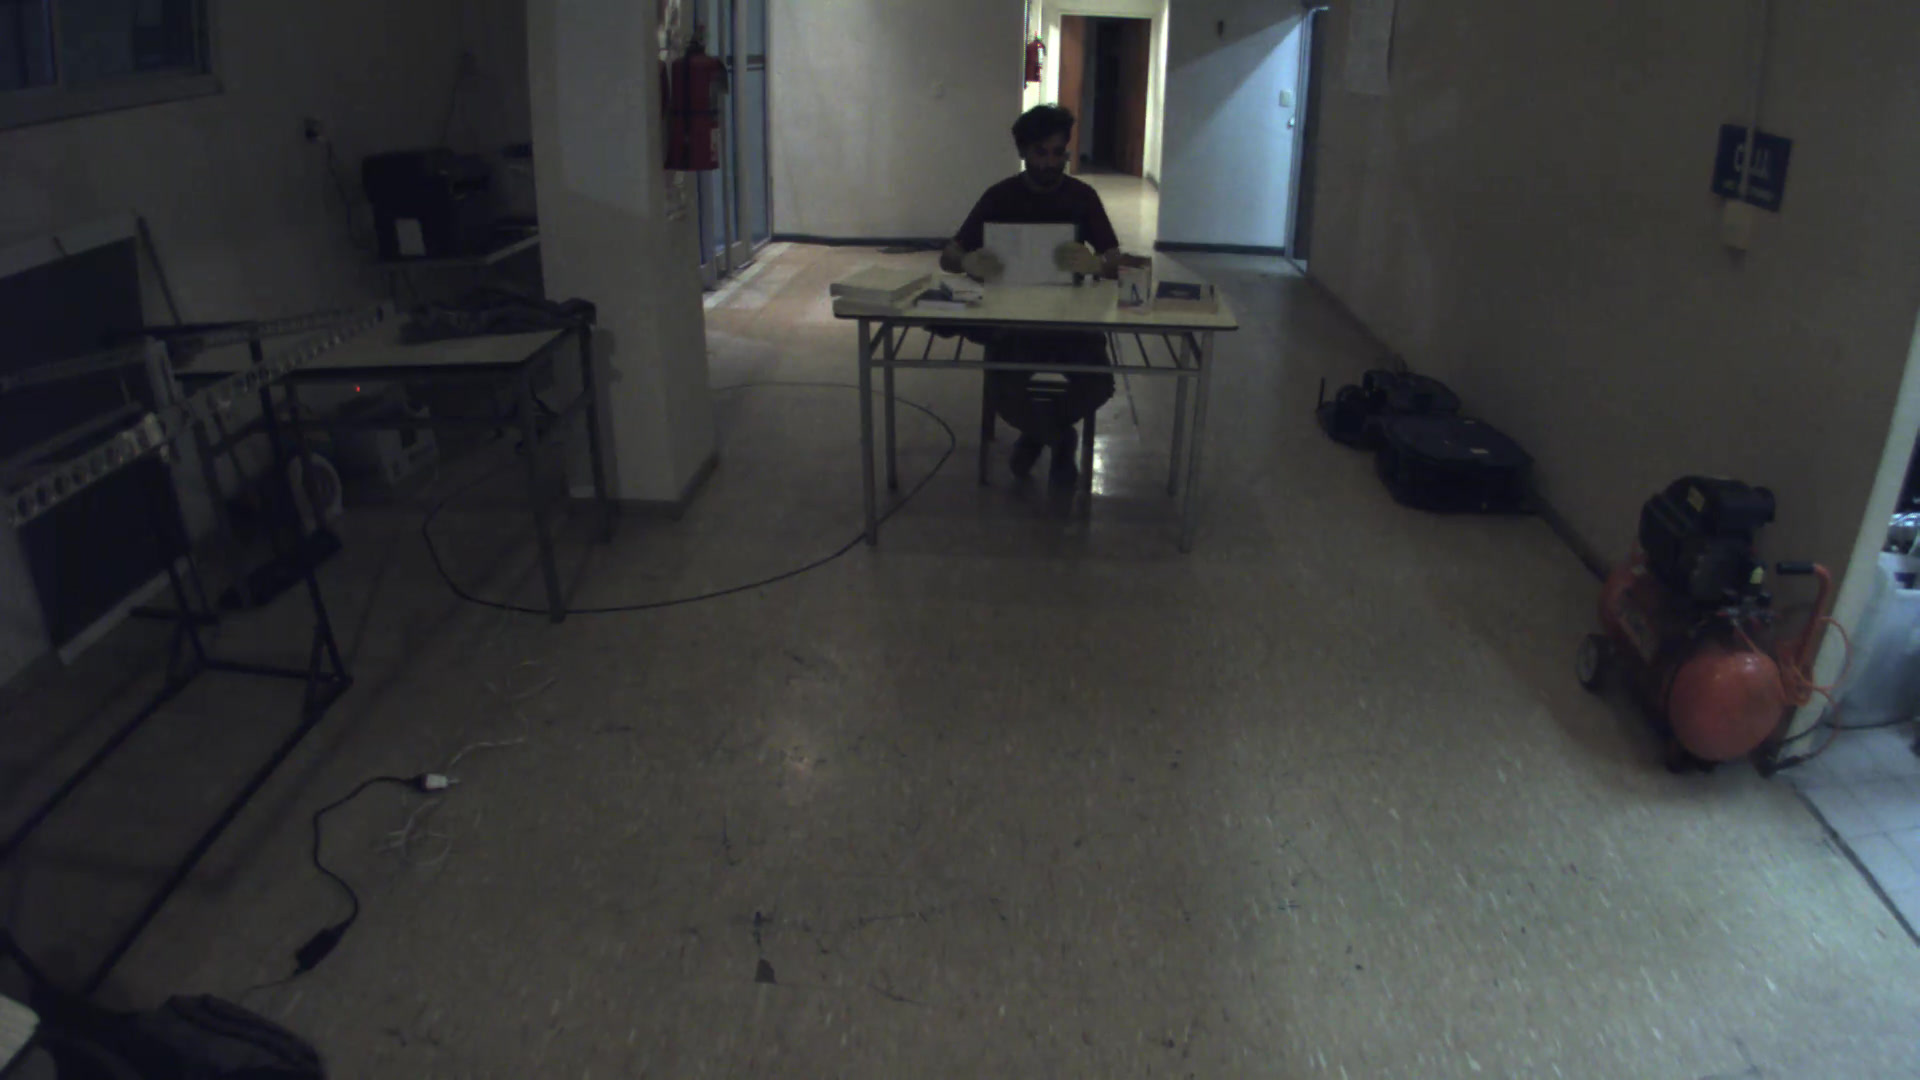hand: (1051, 229, 1112, 284), (959, 245, 1011, 289)
